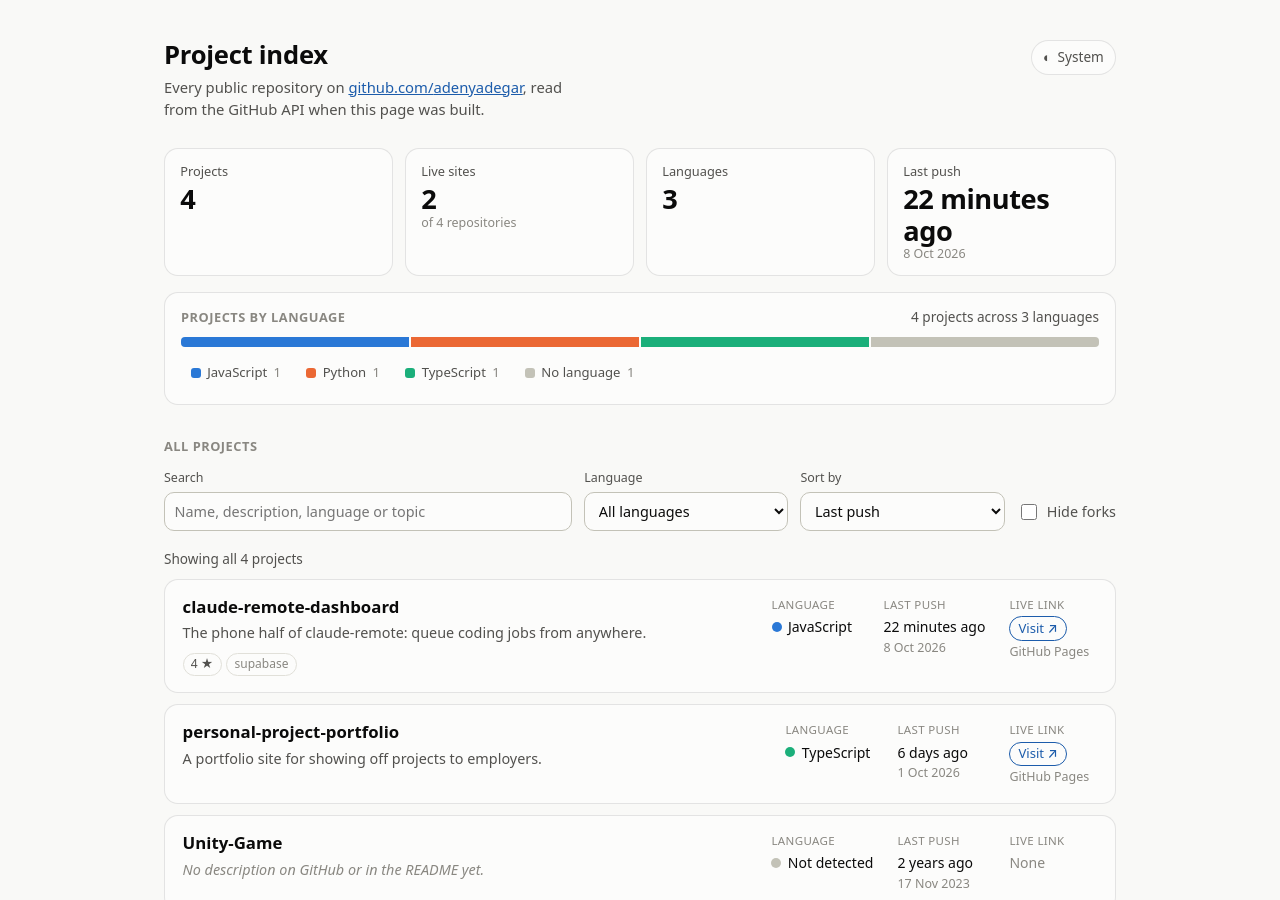
it: the index page › clears every filter at once
Type "portfolio" into the search field labelled "Search" at (368, 511), box [164,492,572,531]
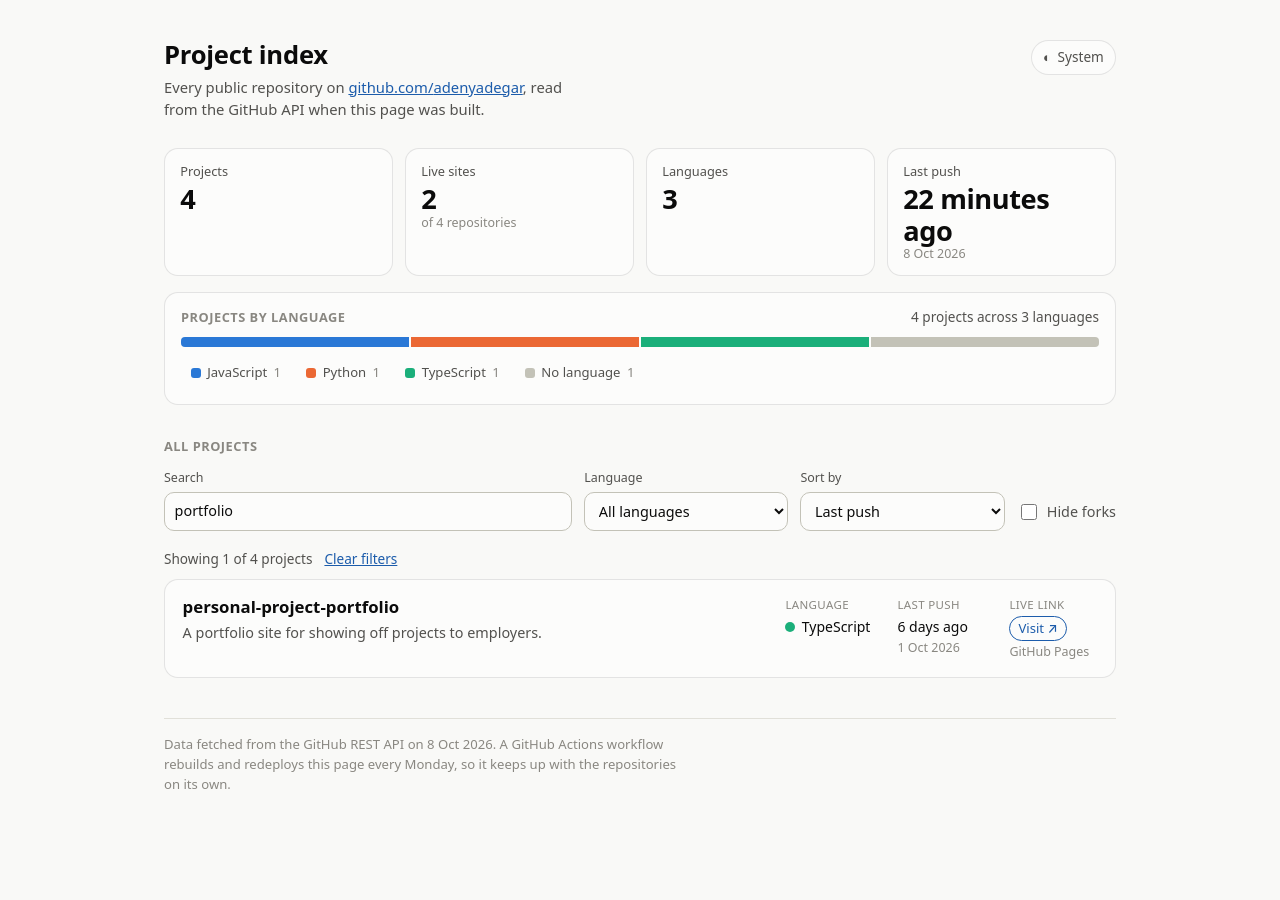
Click the button "Clear filters" at (361, 559), box [324,549,397,569]
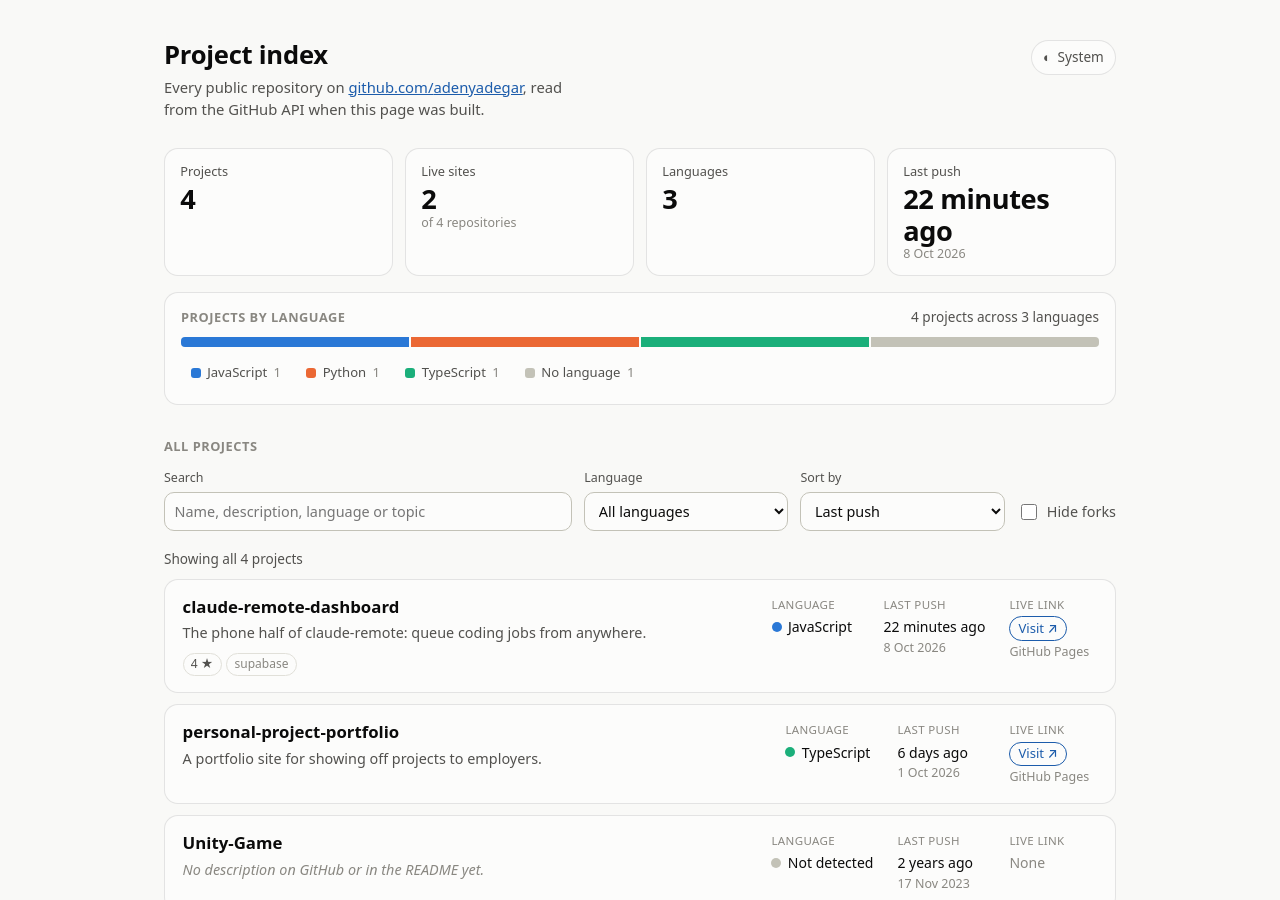
Expected: the search field labelled "Search" is empty, [164,492,572,531]
